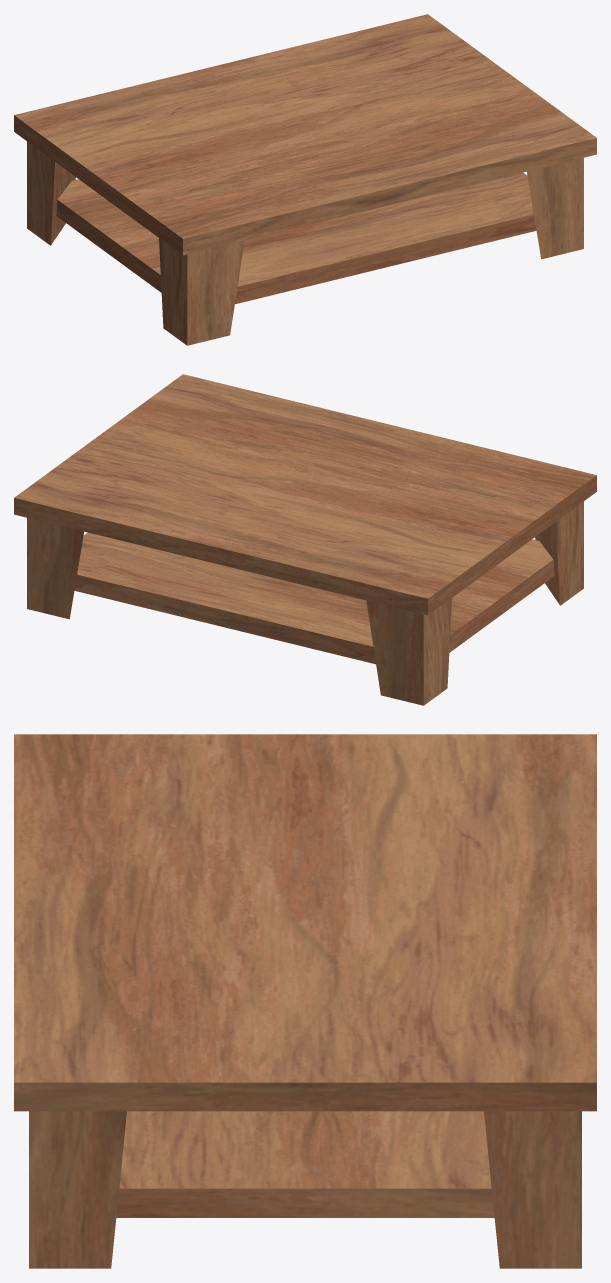
File: tavolino.fbx
3 views of the same model, one above another, from view 1: azimuth 30°, elevation 25°; view 2: azimuth 150°, elevation 25°; view 3: azimuth 270°, elevation 25° (orthographic). The views are drawn at different scales.
Visible parts, largest first — view 1: Cube; view 2: Cube; view 3: Cube.
Part boxes in pixels (left/top/right/bottom): Cube: left=14, top=14, right=596, bottom=345; Cube: left=14, top=374, right=596, bottom=705; Cube: left=14, top=734, right=596, bottom=1268.
Size of the model in its own units: 104 by 27 by 73.77.
